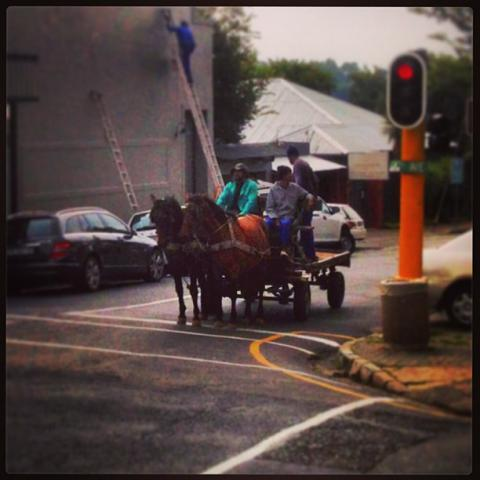car: (4, 202, 165, 296), (420, 226, 476, 326), (312, 197, 356, 254), (128, 208, 168, 264), (326, 203, 367, 240)
